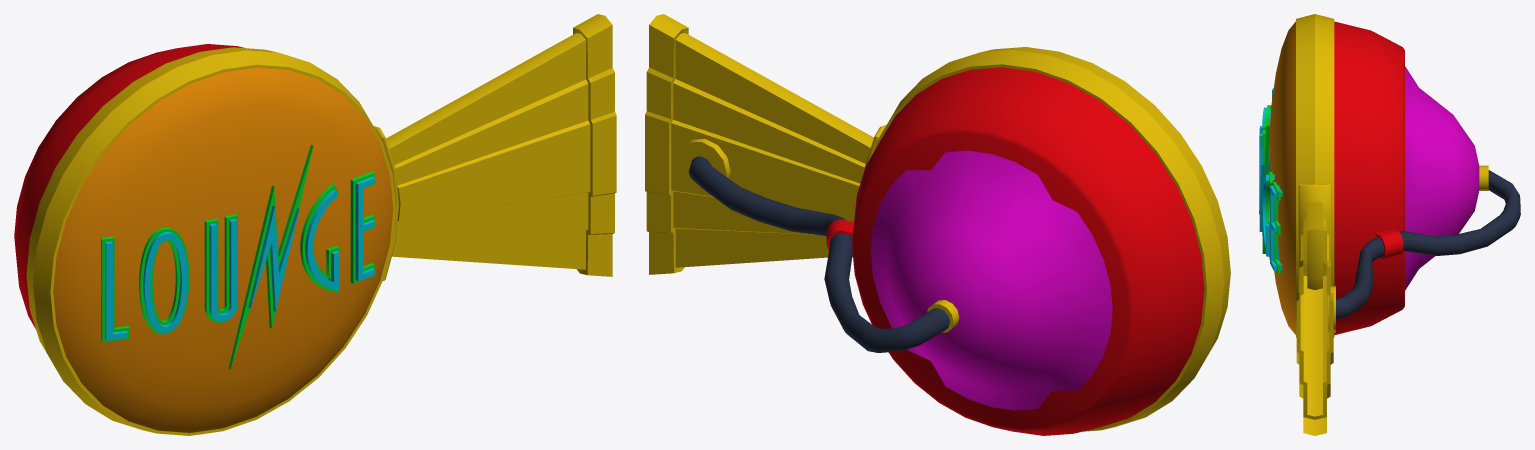
File: Sign_Lounge_A_01.fbx
3 views of the same model, side by side, from view 1: azimuth 30°, elevation 25°; view 2: azimuth 150°, elevation 25°; view 3: azimuth 270°, elevation 25° (orthographic). The views are drawn at different scales.
Visible parts, largest first — view 1: Sign_Lounge_A_01; view 2: Sign_Lounge_A_01; view 3: Sign_Lounge_A_01.
Part boxes in pixels (x1,y1,x2,y2): Sign_Lounge_A_01: (14,14,616,435); Sign_Lounge_A_01: (645,14,1230,435); Sign_Lounge_A_01: (1259,14,1520,435).
Bounding box in the file's own units: 100 × 62.5 × 49.71.
